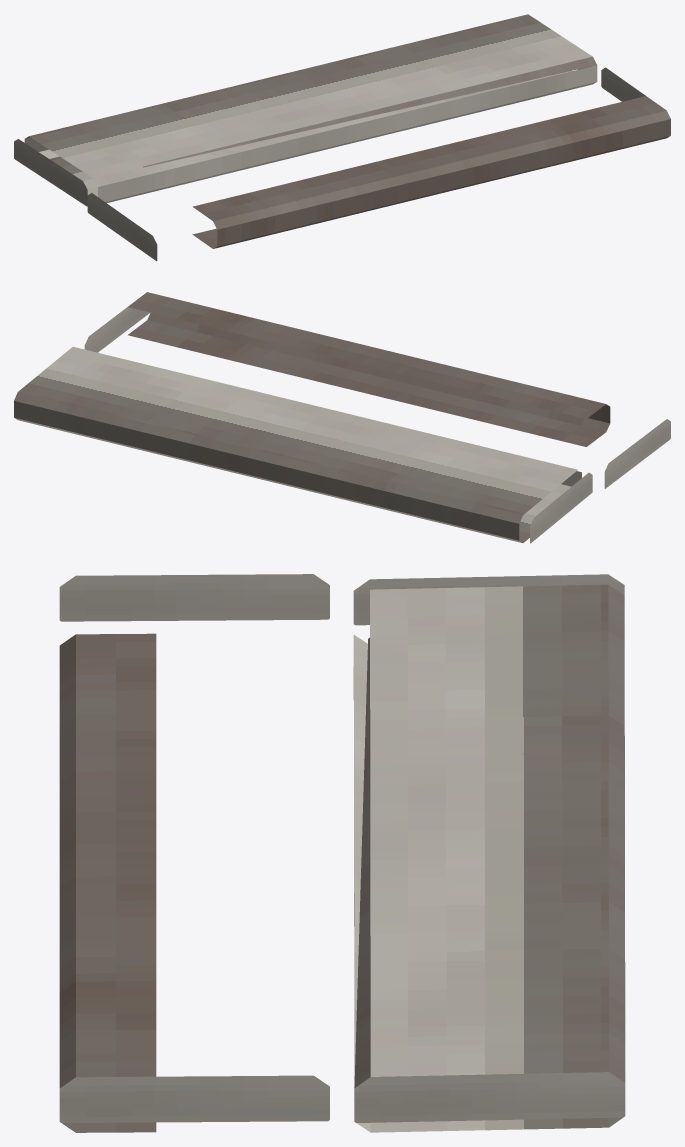
3 views of the same model, one above another, from view 1: azimuth 30°, elevation 25°; view 2: azimuth 150°, elevation 25°; view 3: azimuth 270°, elevation 25° (orthographic). The views are drawn at different scales.
Bounding box in the file's own units: 0.97 × 0.06 × 0.4607.
